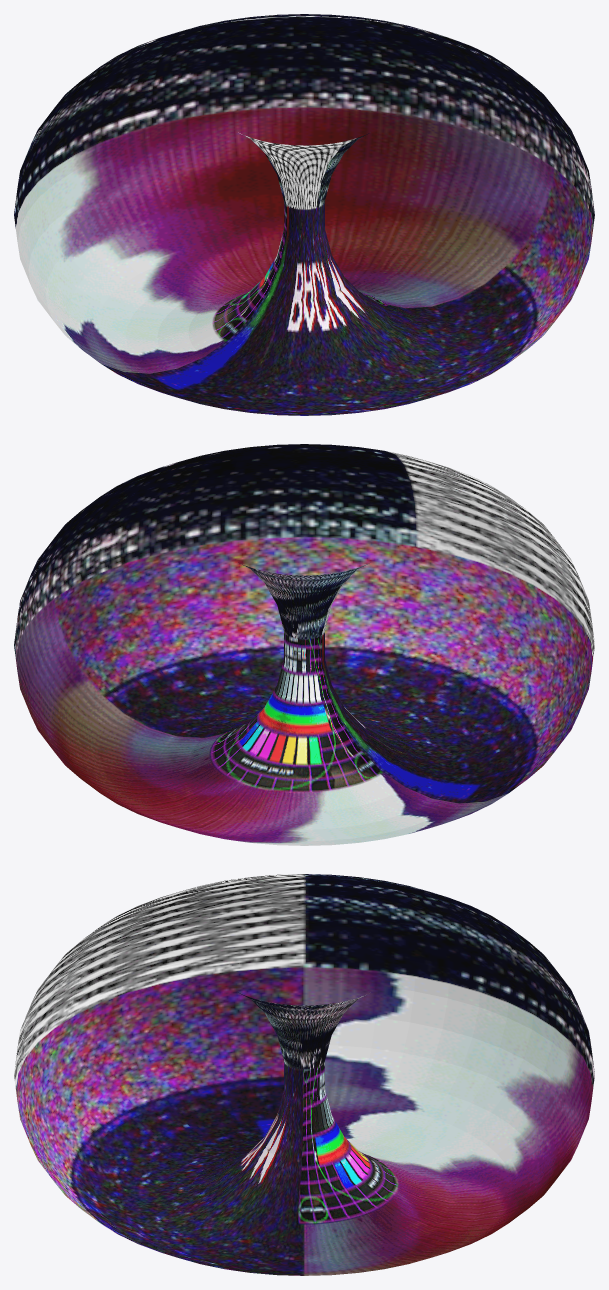
File: 02_torus_inside_01.glb
3 renders of one model, top to bottom at view 1: azimuth 30°, elevation 25°; view 2: azimuth 150°, elevation 25°; view 3: azimuth 270°, elevation 25°, orthographic.
Visible parts, largest first — view 1: Torus.inside; view 2: Torus.inside; view 3: Torus.inside.
Boxes of the visible parts, left/top/right/bottom form: Torus.inside: left=14, top=14, right=594, bottom=415; Torus.inside: left=14, top=444, right=594, bottom=845; Torus.inside: left=14, top=874, right=594, bottom=1275.
Size of the model in its own units: 31.3 by 14.57 by 31.3.
Materials: 1 (1 with a texture image).
